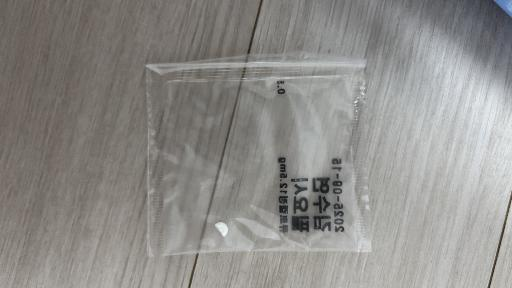Q-Rokel: (146, 51, 371, 256), (215, 222, 228, 236)
